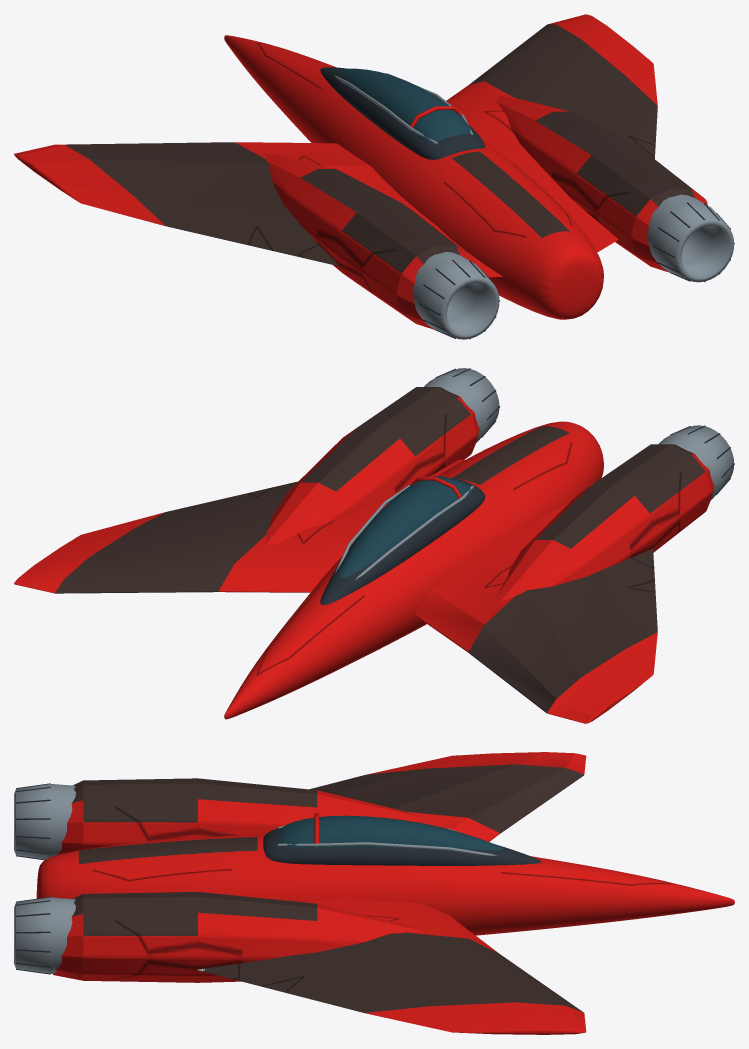
The picture shows the model from 3 angles, top to bottom: view 1: azimuth 30°, elevation 25°; view 2: azimuth 150°, elevation 25°; view 3: azimuth 270°, elevation 25°; orthographic projection.
Visible parts, largest first — view 1: VioletFeintV2; view 2: VioletFeintV2; view 3: VioletFeintV2.
Part boxes in pixels (<box>): VioletFeintV2: <box>14,14,734,339</box>; VioletFeintV2: <box>14,368,734,723</box>; VioletFeintV2: <box>14,752,734,1034</box>.
Size of the model in its own units: 3.04 by 0.6313 by 3.33.
6 materials, 2 textured.
